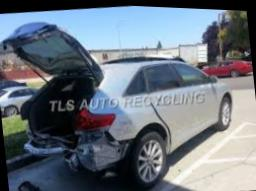Bumper: (22, 130, 133, 175)
Dickey: (0, 25, 106, 145)
